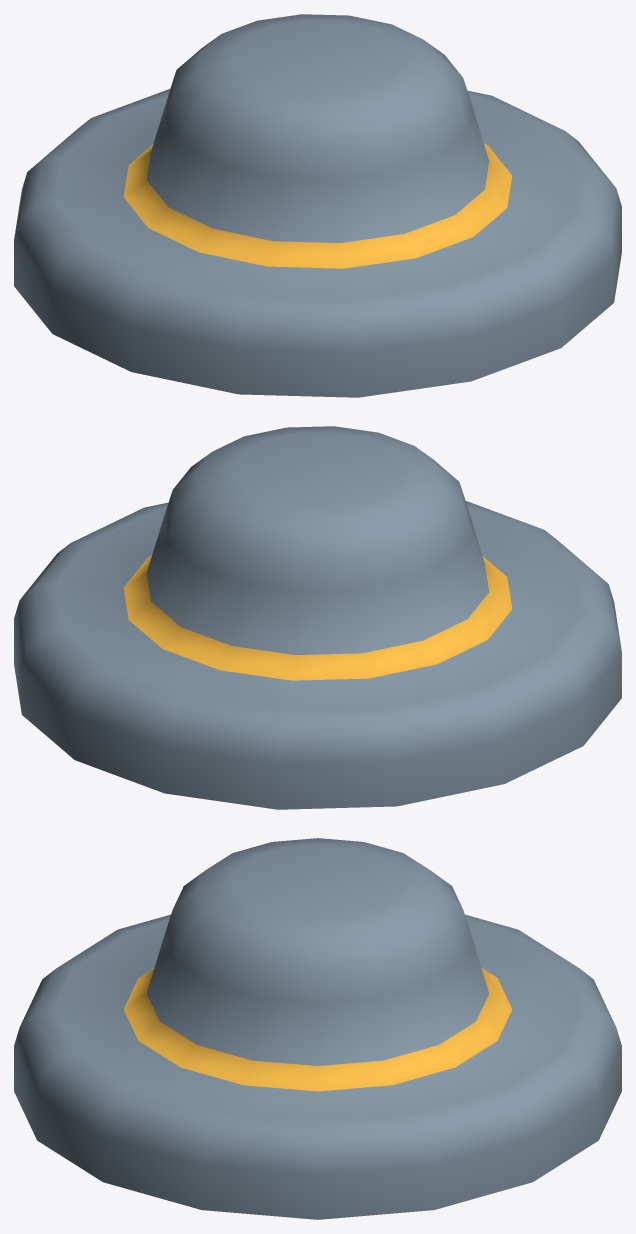
File: Cap_6.fbx
3 renders of one model, top to bottom at view 1: azimuth 30°, elevation 25°; view 2: azimuth 150°, elevation 25°; view 3: azimuth 270°, elevation 25°, orthographic.
Visible parts, largest first — view 1: Cap_6; view 2: Cap_6; view 3: Cap_6.
Part boxes in pixels (box(x1,y1,x2,y2)): Cap_6: box(14, 14, 621, 397); Cap_6: box(14, 426, 621, 809); Cap_6: box(14, 838, 621, 1219).
Size of the model in its own units: 0.2893 by 0.1101 by 0.2893.
